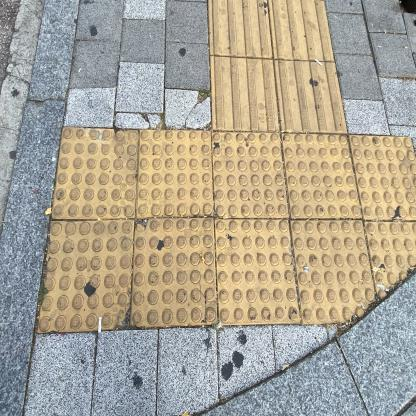podotacti: (29, 116, 416, 335), (194, 0, 361, 135)
